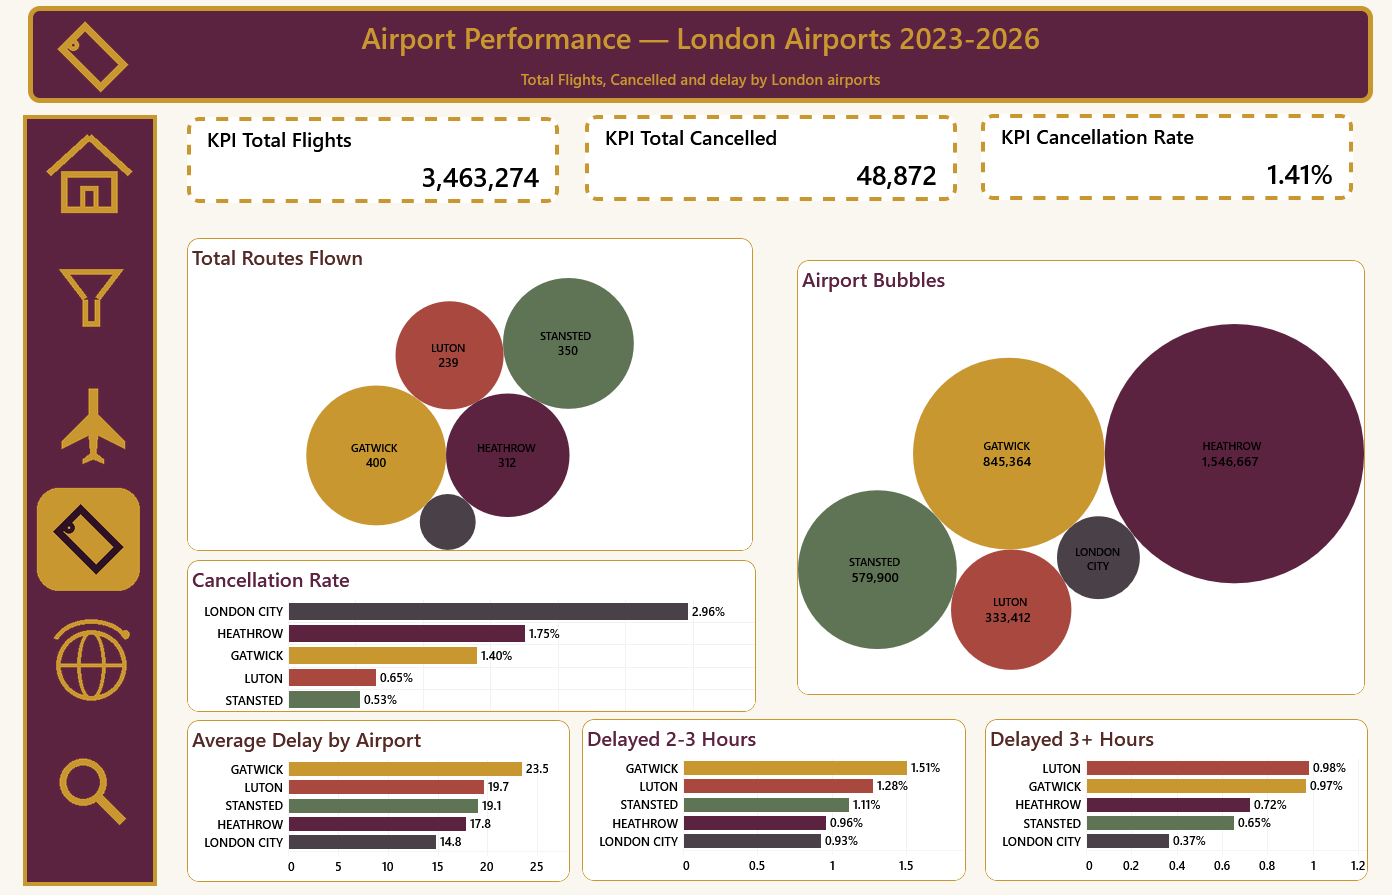

The dashboard page shown, as its layout file describes it:
{"tool":"tableau","page":{"name":"Airport Performance","canvas":[1400,900],"ordinal":1},"visuals":[{"type":"text","box":[30,7,1349,101]},{"type":"worksheet","title":"KPI Cancellation Rate","mark":"Automatic","box":[985,117,372,86]},{"type":"blank","box":[27,118,134,771]},{"type":"worksheet","title":"KPI Total Cancelled","mark":"Automatic","box":[589,118,372,86]},{"type":"worksheet","title":"KPI Total Flights","mark":"Text","box":[191,120,372,86]},{"type":"dashboard-object","box":[28,121,130,118]},{"type":"filter","title":"Airport Bubbles","param":"[federated.1qvwq7p13qp5wx132kuoq0ngnuc3].[yr:reporting_period:ok]","box":[168,162,211.2,101.2]},{"type":"dashboard-object","box":[32,240,125,114]},{"type":"worksheet","title":"Total Routes Flown","mark":"Circle","box":[191,241,566,313]},{"type":"worksheet","title":"Airport Bubbles","mark":"Circle","box":[801,263,568,435]},{"type":"filter","title":"Airport Bubbles","param":"[federated.1qvwq7p13qp5wx132kuoq0ngnuc3].[none:reporting_airport:nk]","box":[168,263.2,211.2,116.3]},{"type":"dashboard-object","box":[33,357,127,120]},{"type":"filter","title":"Airport Bubbles","param":"[federated.1qvwq7p13qp5wx132kuoq0ngnuc3].[none:airline_name:nk]","box":[168,379.5,211.2,504]},{"type":"dashboard-object","box":[29,480,126,124]},{"type":"worksheet","title":"Cancellation Rate","mark":"Automatic","rows":["reporting_airport"],"cols":["Calculation_1779585545400320"],"box":[191,563,569,152]},{"type":"dashboard-object","box":[31,606,127,124]},{"type":"worksheet","title":"Delayed 3+ Hours","mark":"Automatic","rows":["reporting_airport"],"cols":["Calculation_1779585555595265"],"box":[989.3,721.5,382.7,162]},{"type":"worksheet","title":"Delayed 2-3 Hours","mark":"Automatic","rows":["reporting_airport"],"cols":["flights_between_121_and_180_minutes_late_percent"],"box":[585.7,722.2,383.8,162]},{"type":"worksheet","title":"Average Delay by Airport","mark":"Automatic","rows":["reporting_airport"],"cols":["average_delay_mins"],"box":[191,723,383,162]},{"type":"dashboard-object","box":[30,729,126,124]}]}

Visuals, with their boxes in screenshot pixels (x1, y1, x2, y2), scaled from the page's 1400x900 canvas onto the 1392x895 screenshot:
text: (left=30, top=7, right=1371, bottom=107)
"KPI Cancellation Rate" worksheet: (left=979, top=116, right=1349, bottom=202)
blank: (left=27, top=117, right=160, bottom=884)
"KPI Total Cancelled" worksheet: (left=586, top=117, right=956, bottom=203)
"KPI Total Flights" worksheet (Text marks): (left=190, top=119, right=560, bottom=205)
dashboard-object: (left=28, top=120, right=157, bottom=238)
"Airport Bubbles" filter: (left=167, top=161, right=377, bottom=262)
dashboard-object: (left=32, top=239, right=156, bottom=352)
"Total Routes Flown" worksheet (Circle marks): (left=190, top=240, right=753, bottom=551)
"Airport Bubbles" worksheet (Circle marks): (left=796, top=262, right=1361, bottom=694)
"Airport Bubbles" filter: (left=167, top=262, right=377, bottom=377)
dashboard-object: (left=33, top=355, right=159, bottom=474)
"Airport Bubbles" filter: (left=167, top=377, right=377, bottom=879)
dashboard-object: (left=29, top=477, right=154, bottom=601)
"Cancellation Rate" worksheet: (left=190, top=560, right=756, bottom=711)
dashboard-object: (left=31, top=603, right=157, bottom=726)
"Delayed 3+ Hours" worksheet: (left=984, top=717, right=1364, bottom=879)
"Delayed 2-3 Hours" worksheet: (left=582, top=718, right=964, bottom=879)
"Average Delay by Airport" worksheet: (left=190, top=719, right=571, bottom=880)
dashboard-object: (left=30, top=725, right=155, bottom=848)
